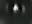person: (23, 5, 27, 15), (15, 5, 19, 14)
